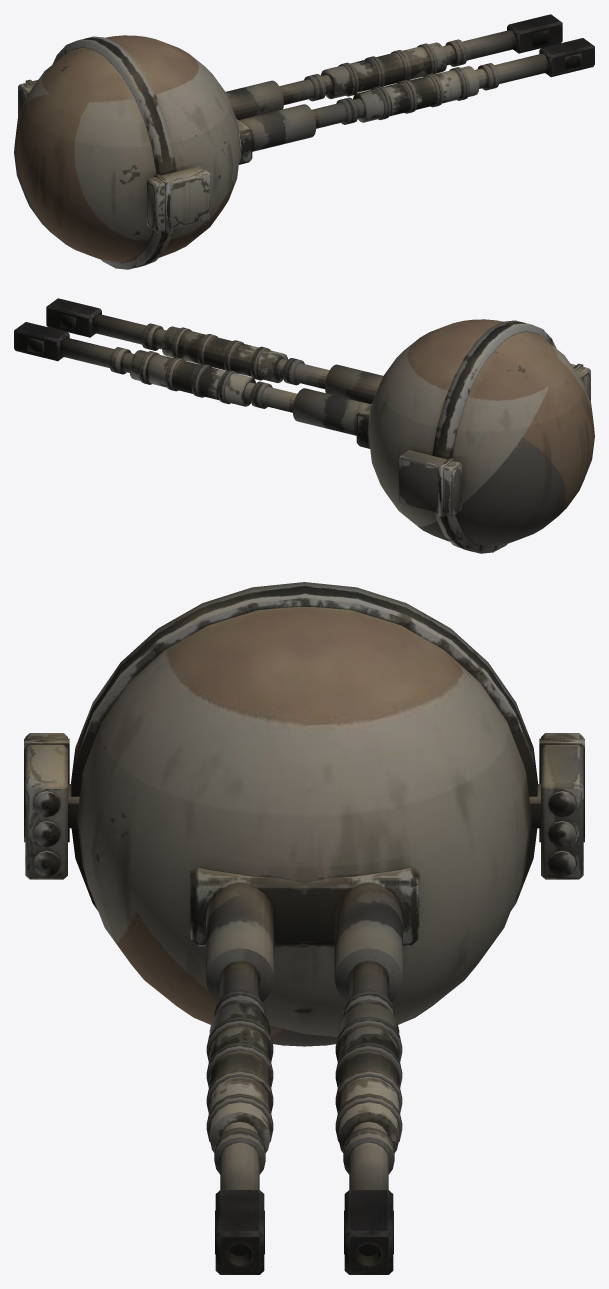
File: turret_kit_tail_ball_t3_rock.glb
3 renders of one model, top to bottom at view 1: azimuth 30°, elevation 25°; view 2: azimuth 150°, elevation 25°; view 3: azimuth 270°, elevation 25°, orthographic. The views are drawn at different scales.
Visible parts, largest first — view 1: turret_tail_ball_t3, pods; view 2: turret_tail_ball_t3, pods; view 3: turret_tail_ball_t3, pods.
Boxes of the visible parts, x1,y1,x2,y2 form: turret_tail_ball_t3: (14, 14, 594, 269); pods: (18, 79, 210, 232); turret_tail_ball_t3: (14, 298, 594, 553); pods: (398, 363, 590, 516); turret_tail_ball_t3: (71, 582, 537, 1274); pods: (24, 733, 584, 879).
Size of the model in its own units: 1.66 by 0.62 by 0.7402.
2 materials, 2 textured.
